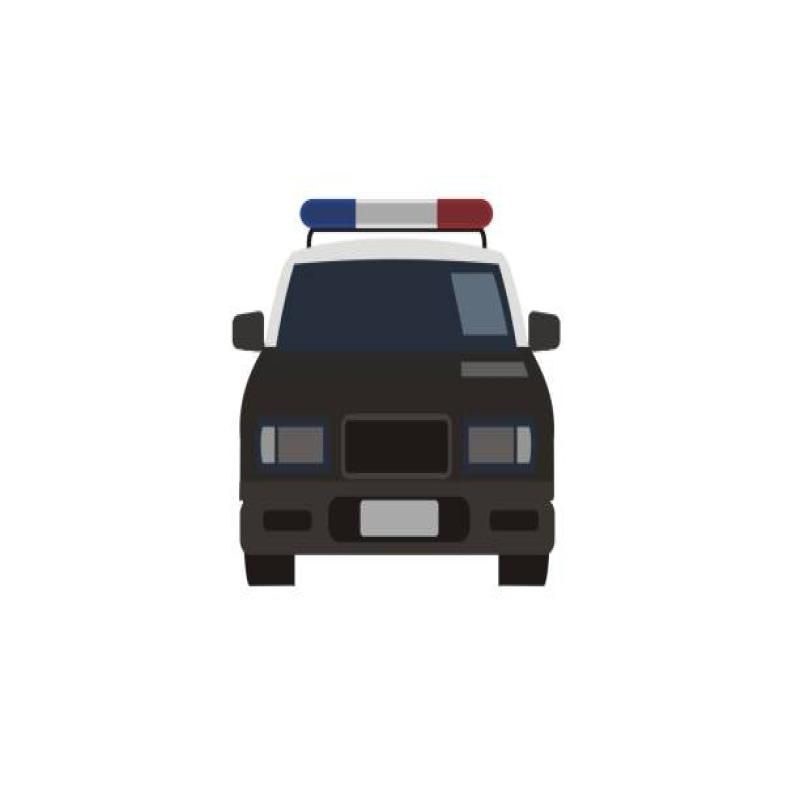AmbulanceSiren: (285, 177, 506, 244)
car: (214, 248, 593, 566)
